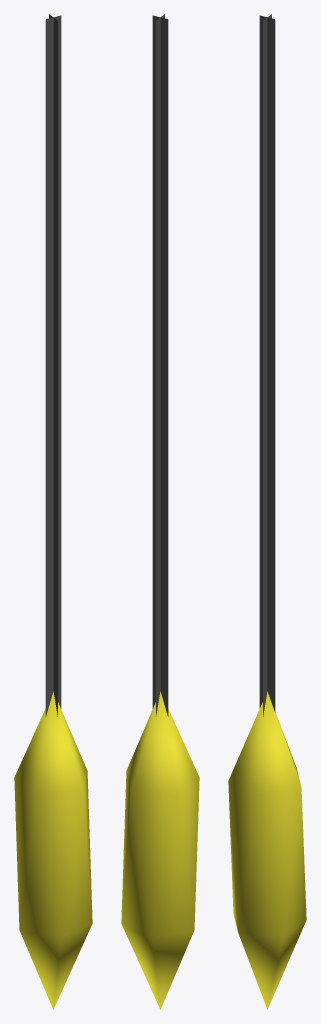
The model's file is light_ceiling_end_mockup.fbx.
3 views of the same model, side by side, from view 1: azimuth 30°, elevation 25°; view 2: azimuth 150°, elevation 25°; view 3: azimuth 330°, elevation 25° (orthographic).
Parts seen in each view (by area): view 1: Plane.053; view 2: Plane.053; view 3: Plane.053.
Part boxes in pixels (<box>): Plane.053: <box>14,14,92,1009</box>; Plane.053: <box>121,14,199,1009</box>; Plane.053: <box>228,14,306,1009</box>.
Bounding box in the file's own units: 0.0856 × 0.0814 × 1.19.
